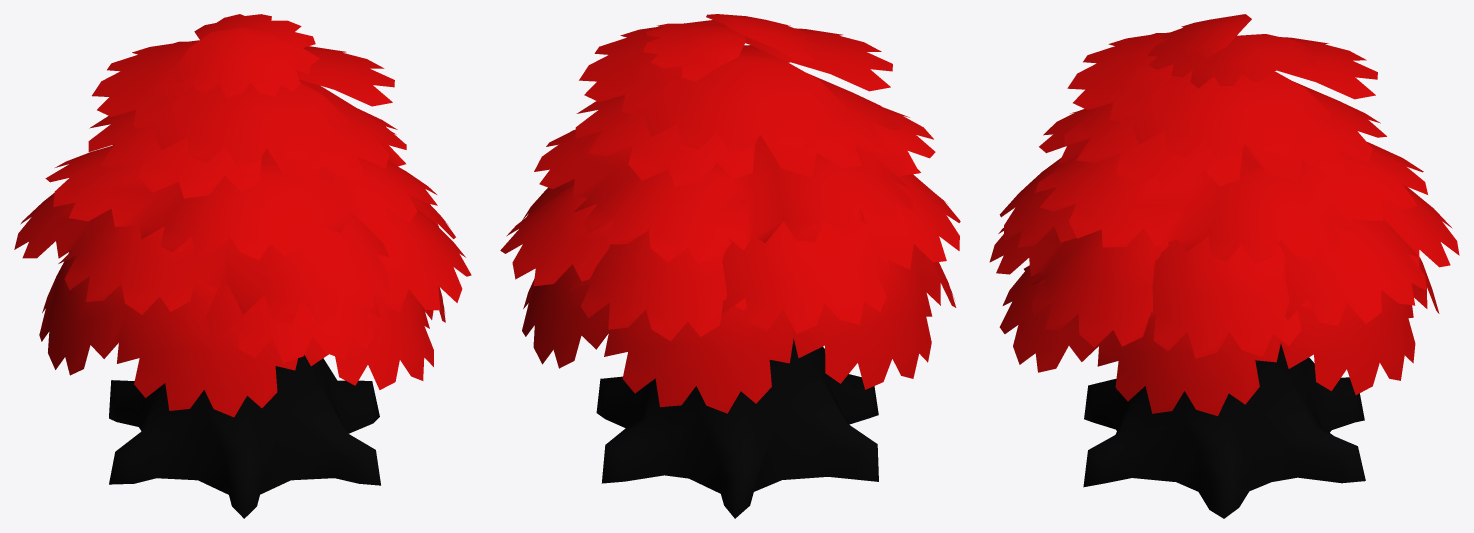
File: tree_pine_01.glb
3 renders of one model, left to right at view 1: azimuth 30°, elevation 25°; view 2: azimuth 150°, elevation 25°; view 3: azimuth 270°, elevation 25°, orthographic. The views are drawn at different scales.
Visible parts, largest first — view 1: forest_tree_01; view 2: forest_tree_01; view 3: forest_tree_01.
Boxes of the visible parts, x1,y1,x2,y2 form: forest_tree_01: (14, 14, 471, 518); forest_tree_01: (500, 14, 960, 518); forest_tree_01: (989, 14, 1459, 518).
Bounding box in the file's own units: 2.06 × 2.15 × 2.14.
